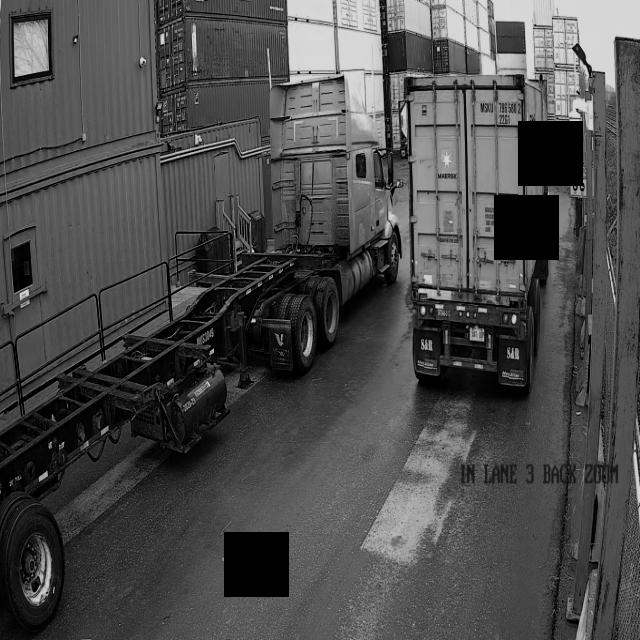truck_with_container: (405, 73, 552, 392)
truck_without_container: (0, 75, 403, 632)
